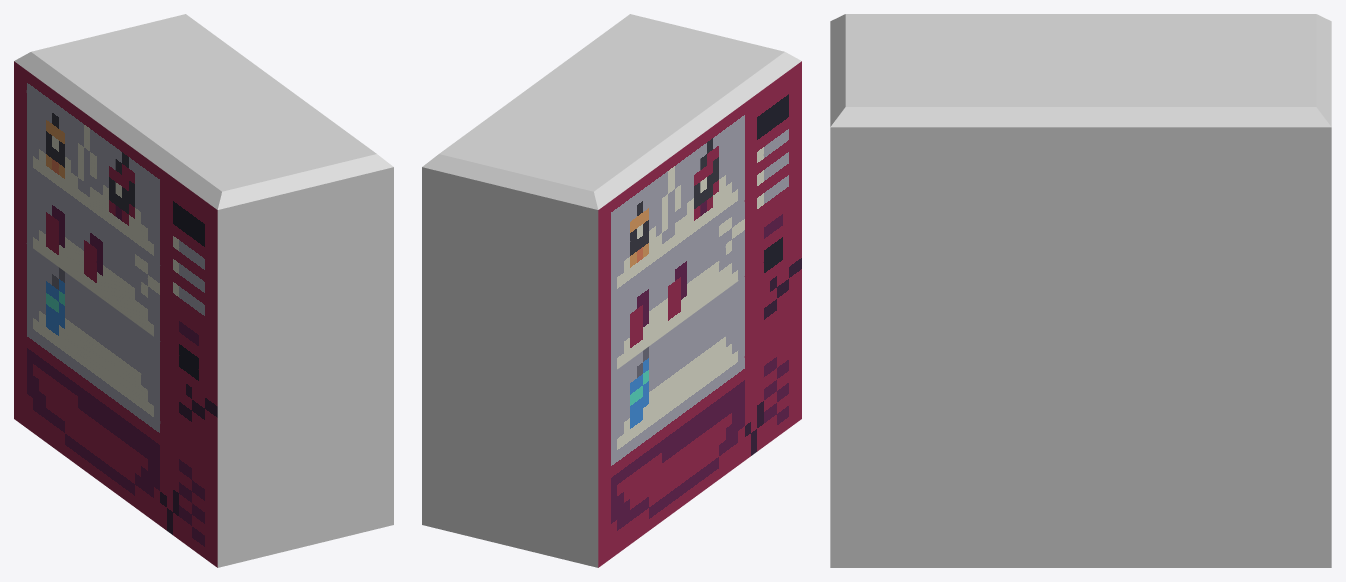
File: MaquinaVermelha_Broken.fbx
The picture shows the model from 3 angles, left to right: view 1: azimuth 30°, elevation 25°; view 2: azimuth 150°, elevation 25°; view 3: azimuth 270°, elevation 25°; orthographic projection. The views are drawn at different scales.
Parts seen in each view (by area): view 1: Cube.001; view 2: Cube.001; view 3: Cube.001.
Boxes of the visible parts, x1,y1,x2,y2 form: Cube.001: (14, 14, 393, 567); Cube.001: (422, 14, 801, 567); Cube.001: (830, 14, 1331, 567).
Size of the model in its own units: 50 by 100 by 100.
